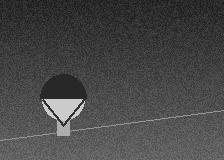helmet: (40, 74, 86, 125)
